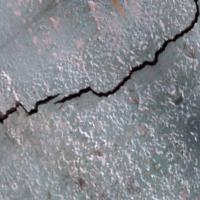crack: (1, 0, 199, 139)
